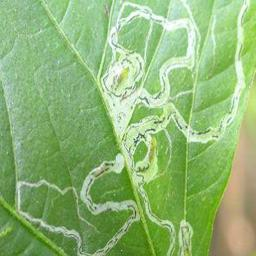liriomyza: (15, 1, 250, 256)
